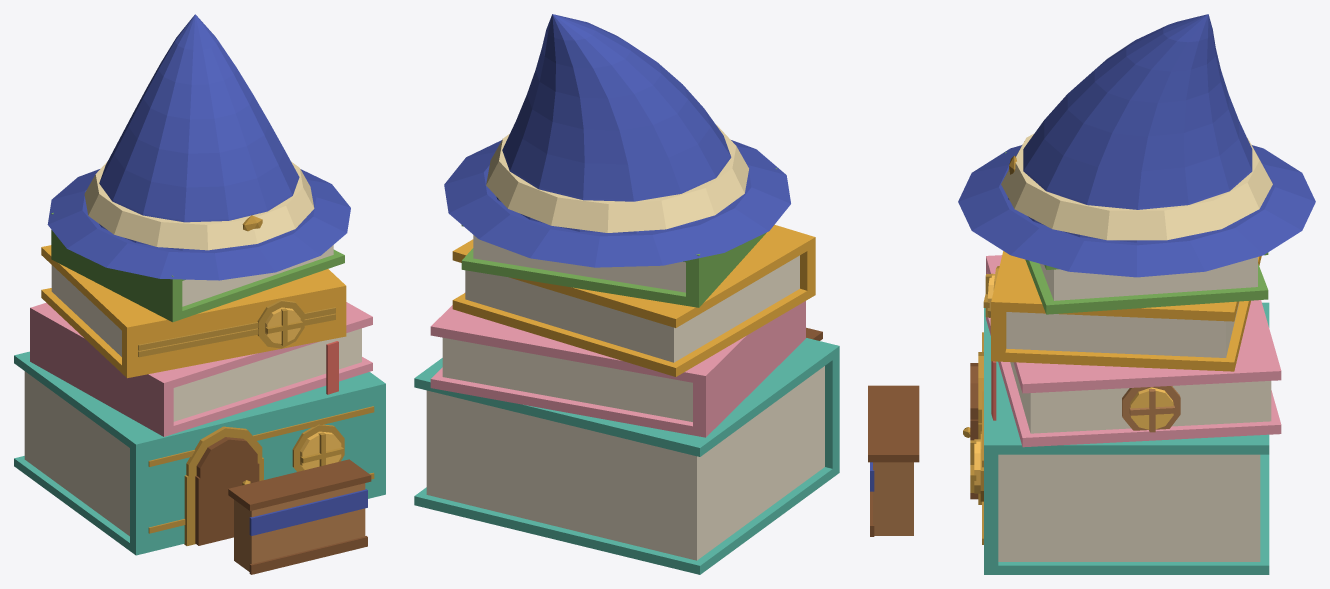
File: shop_scriptorium.glb
3 renders of one model, left to right at view 1: azimuth 30°, elevation 25°; view 2: azimuth 150°, elevation 25°; view 3: azimuth 270°, elevation 25°, orthographic. The views are drawn at different scales.
Visible parts, largest first — view 1: shop_scriptorium, counter; view 2: shop_scriptorium; view 3: shop_scriptorium, counter.
Part boxes in pixels (box(x1,y1,x2,y2)): shop_scriptorium: box(14, 14, 385, 555); counter: box(228, 459, 371, 574); shop_scriptorium: box(414, 14, 839, 574); shop_scriptorium: box(958, 14, 1315, 574); counter: box(868, 385, 919, 536).
Bounding box in the file's own units: 3.5 × 5.48 × 4.38.
